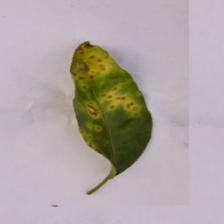canker: (68, 42, 140, 118)
